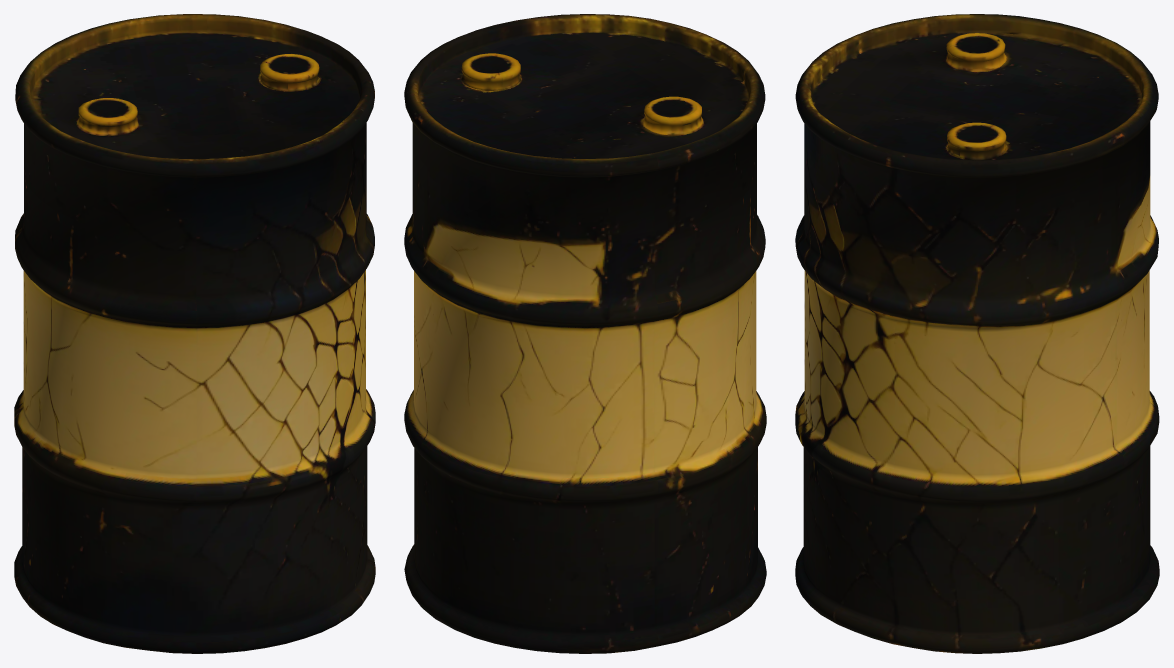
File: crushed_oil_barrel_e450f43f_v1.glb
3 renders of one model, left to right at view 1: azimuth 30°, elevation 25°; view 2: azimuth 150°, elevation 25°; view 3: azimuth 270°, elevation 25°, orthographic.
Visible parts, largest first — view 1: material; view 2: material; view 3: material.
Boxes of the visible parts, <box> form: material: <box>14,14,375,653</box>; material: <box>404,14,766,653</box>; material: <box>795,14,1159,653</box>.
Size of the model in its own units: 1.27 by 1.9 by 1.27.
Materials: 1 (1 with a texture image).
